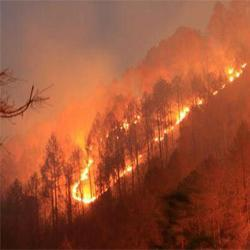fire: (228, 66, 242, 83), (80, 194, 98, 203), (176, 108, 189, 119), (81, 169, 89, 182)
